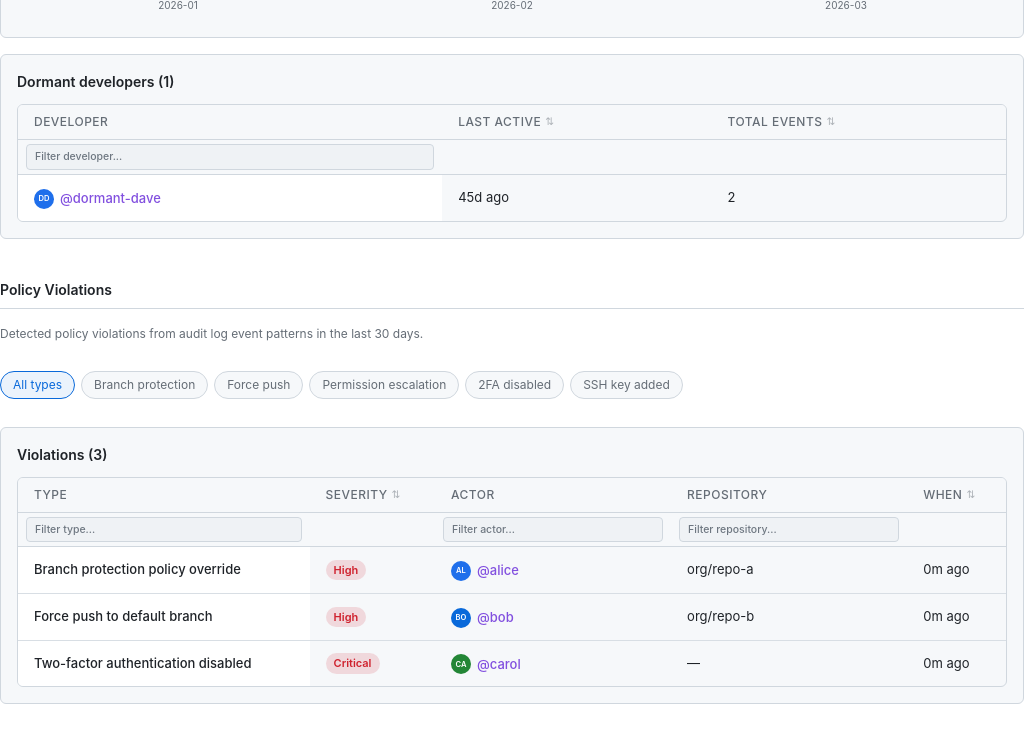
Test: TeamHealthPane › filters violations by type when filter button is clicked
The image size is (1024, 747).
(page scrolled)
Check: the text "Branch protection policy override" is shown, box [34,561,241,577]
# Click the "2FA disabled" filter
Click the button "2FA disabled" at (515, 384), box [465,370,564,398]
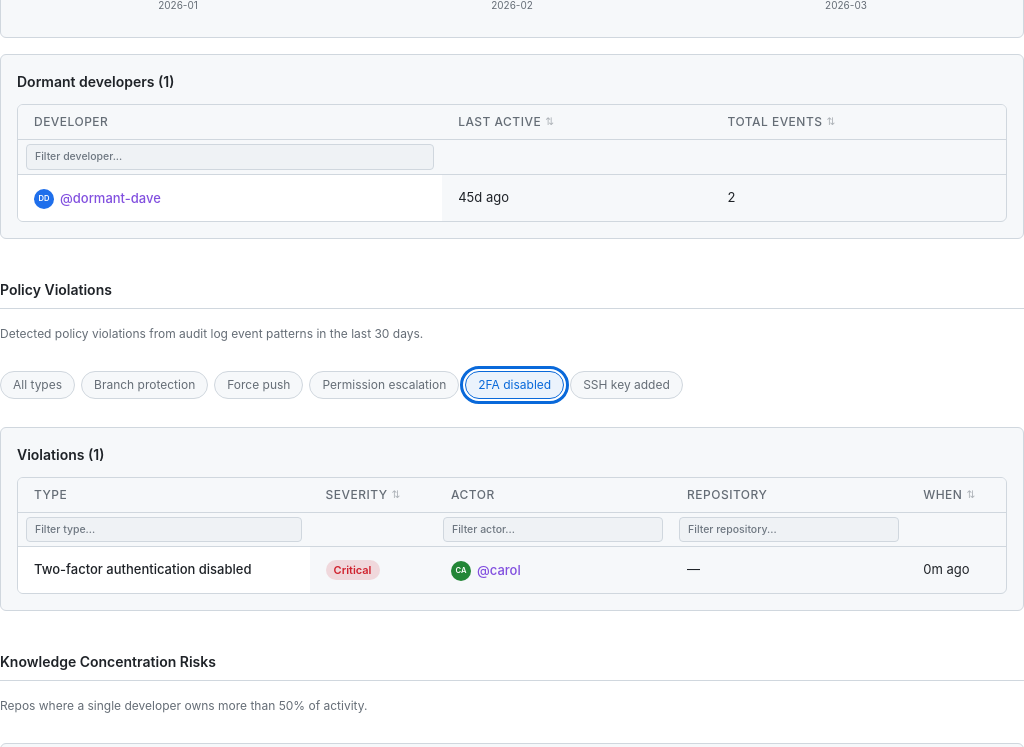
Check: the text "Two-factor authentication disabled" is shown, box [34,561,252,577]
Check: the text "Branch protection policy override" is gone
